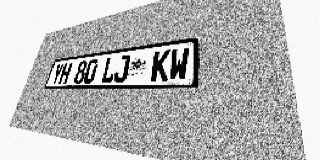0: (82, 59, 99, 84)
8: (73, 60, 89, 84)
H: (58, 62, 73, 84)
J: (113, 55, 131, 83)
K: (150, 49, 171, 81)
L: (101, 56, 118, 83)
W: (168, 47, 190, 81)
Y: (50, 63, 65, 85)
